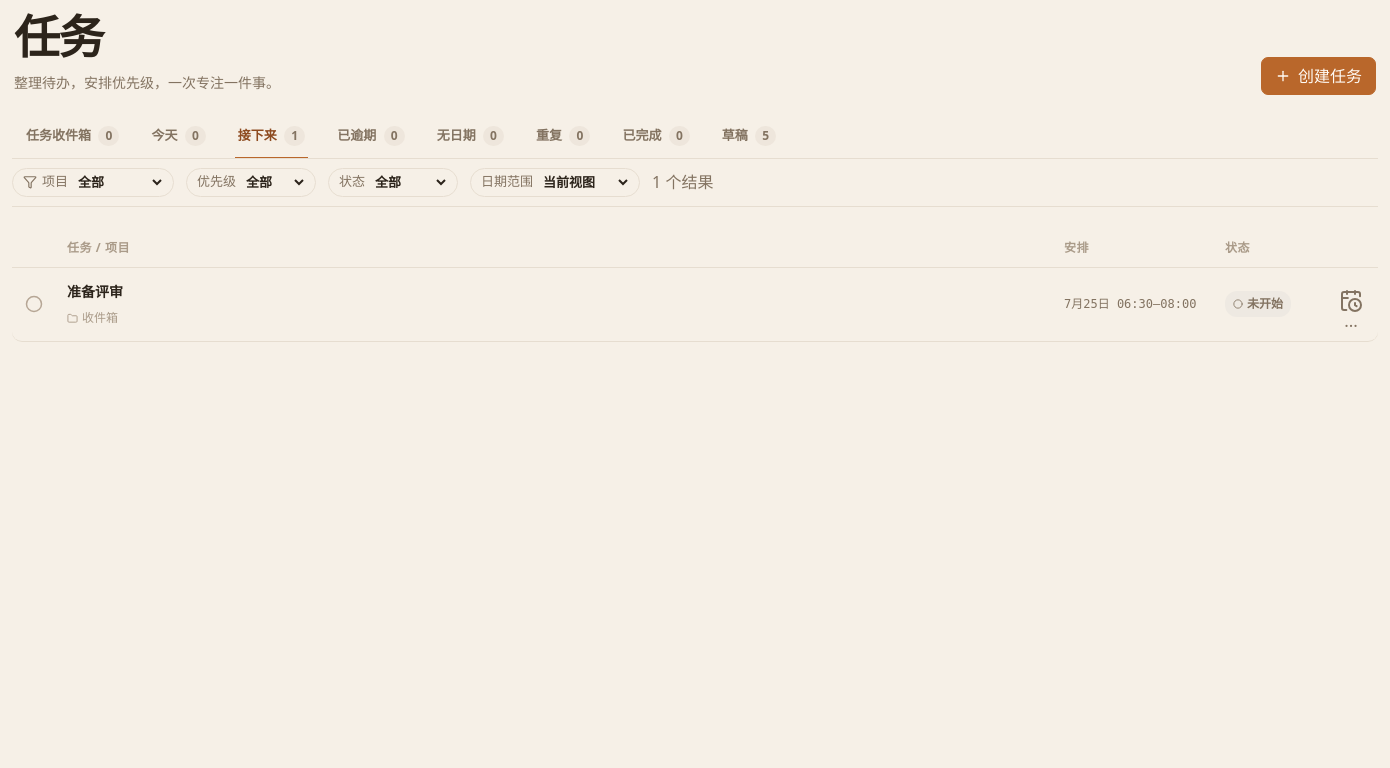
Task occurrence workspace › recognizes an existing time block even when timing_type is omitted
Click the button named "改期准备评审" at (1351, 304), box [1336,289,1366,319]
(page scrolled)
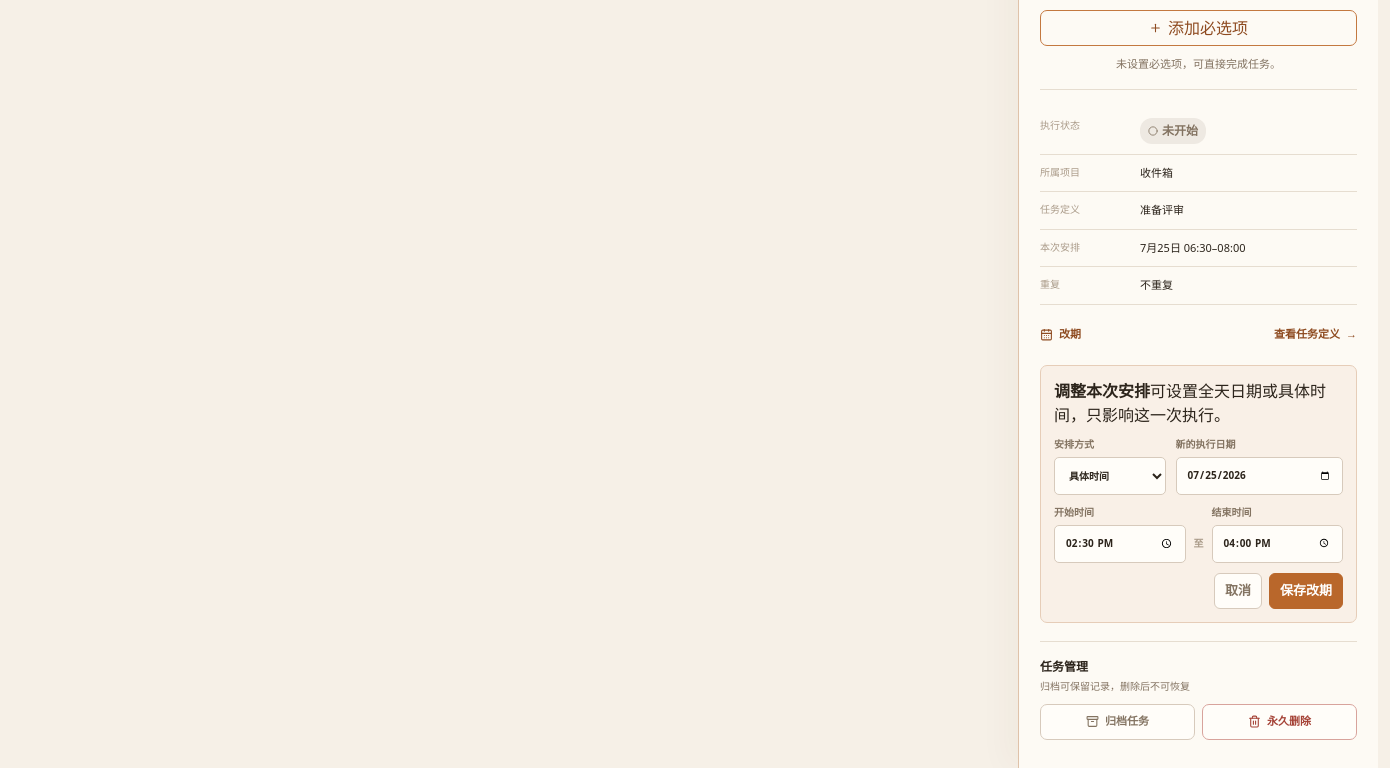
Result: the dropdown named "新的安排方式" shows "具体时间" at [1054,457,1166,495]
Result: the time field named "新的开始时间" holds "14:30" at [1054,525,1186,563]
Result: the time field named "新的结束时间" holds "16:00" at [1212,525,1343,563]
